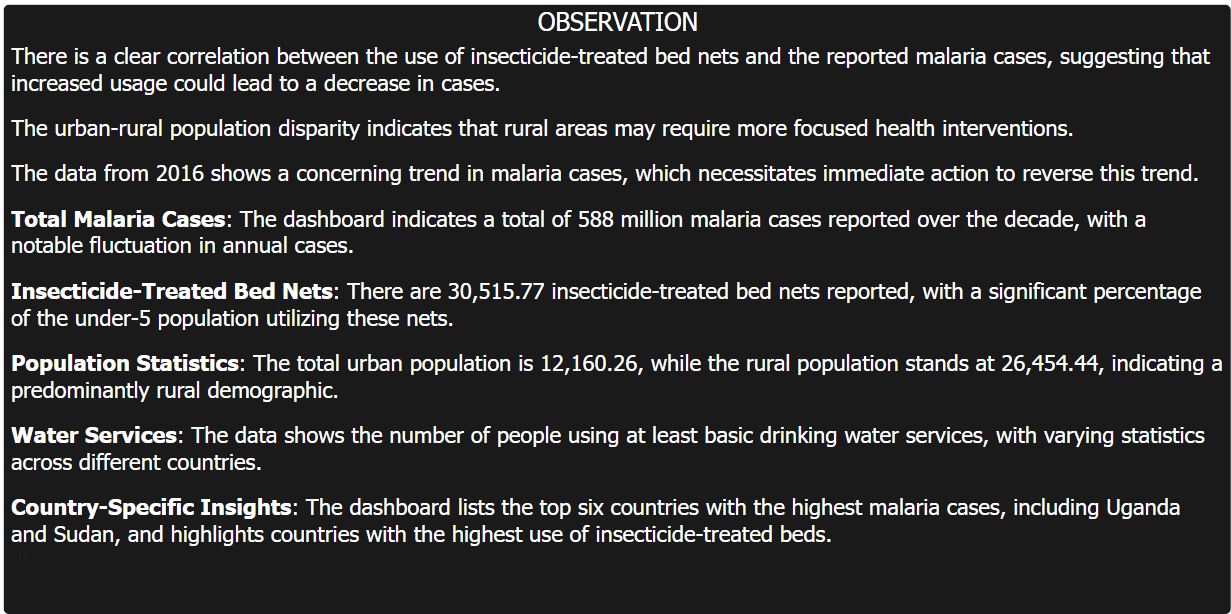

This screenshot's page, from the dashboard's own definition file:
{"tool":"powerbi","page":{"name":"Page 2","canvas":[1280,720],"ordinal":1},"visuals":[{"type":"textbox","title":"OBSERVATION","box":[22.7,0,1256.8,719.2],"z":0}]}

Visuals, with their boxes on the page's 1280x720 design canvas (x1, y1, x2, y2). These are canvas units, not pixel positions in the 1231x614 screenshot, which may show the page scaled, cropped or inside an application window:
"OBSERVATION" textbox: 23:0:1280:719
